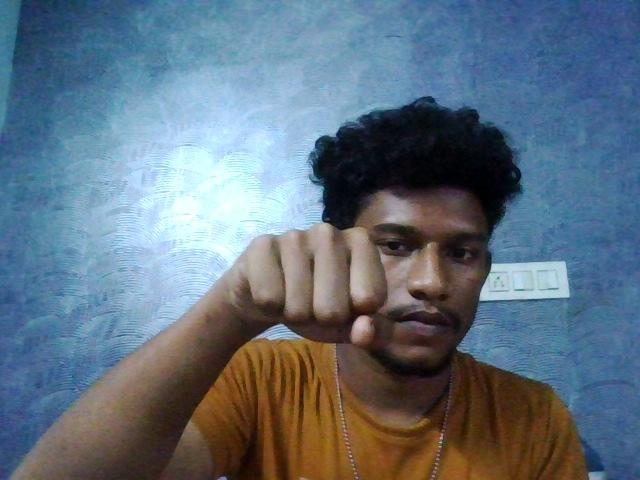yes: (214, 215, 403, 382)
